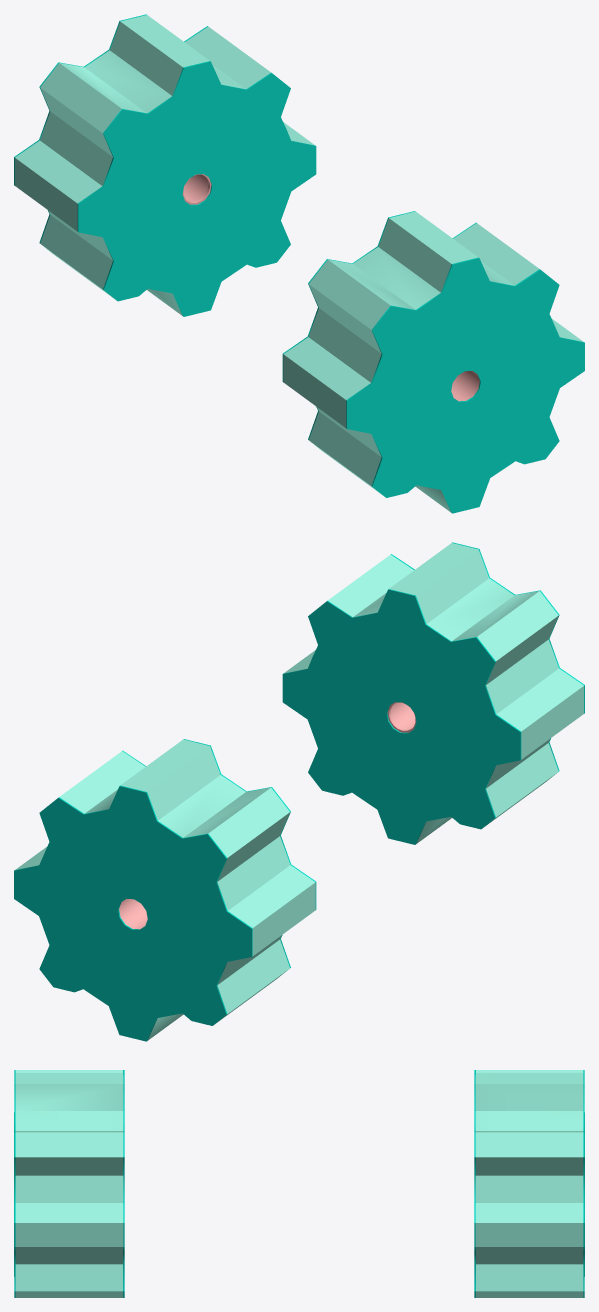
The model's file is endcap_toroid.glb.
3 views of the same model, one above another, from view 1: azimuth 30°, elevation 25°; view 2: azimuth 150°, elevation 25°; view 3: azimuth 270°, elevation 25° (orthographic). The views are drawn at different scales.
Parts seen in each view (by area): view 1: ECT Side A external, ECT Side C external, S__1F0C5598.006, S__1F0C5598.005; view 2: ECT Side C external, ECT Side A external, S__1F0C5598.005, S__1F0C5598.006; view 3: ECT Side A external, ECT Side C external.
Boxes of the visible parts, left/top/right/bottom form: ECT Side A external: left=282, top=211, right=584, bottom=513; ECT Side C external: left=14, top=14, right=316, bottom=316; S__1F0C5598.006: left=182, top=174, right=211, bottom=204; S__1F0C5598.005: left=451, top=371, right=479, bottom=401; ECT Side C external: left=14, top=739, right=316, bottom=1041; ECT Side A external: left=282, top=542, right=584, bottom=844; S__1F0C5598.005: left=387, top=702, right=416, bottom=732; S__1F0C5598.006: left=119, top=899, right=147, bottom=929; ECT Side A external: left=14, top=1070, right=124, bottom=1297; ECT Side C external: left=474, top=1070, right=584, bottom=1297.
Bounding box in the file's own units: 10.64 × 10.64 × 25.81.
